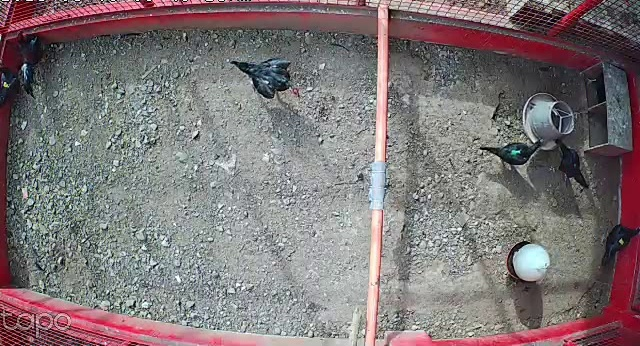Chicken: (229, 54, 306, 105), (547, 135, 595, 194), (596, 213, 640, 271), (477, 137, 544, 168), (0, 57, 22, 108)
Rooster: (12, 27, 59, 99)
Saddle_Color_Bluegreen: (511, 149, 521, 154)
Saddle_Color_Yellow: (1, 79, 12, 88)
